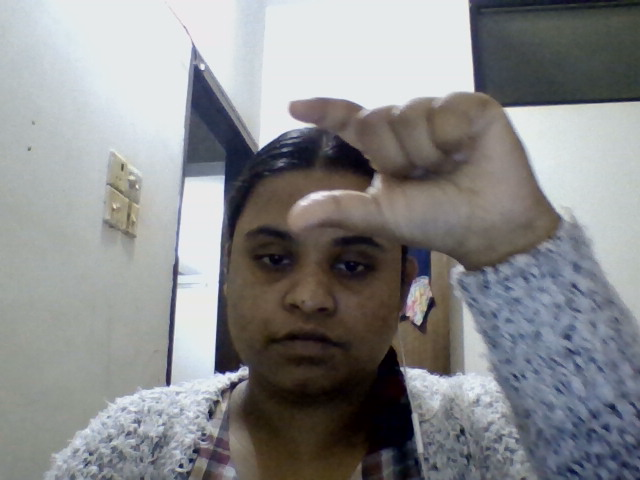No: (258, 56, 543, 302)
